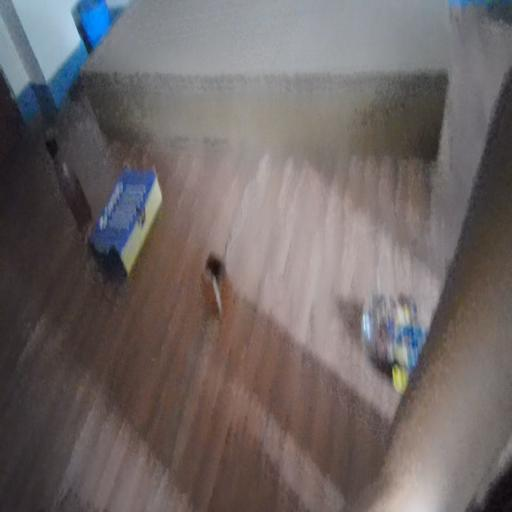Bottle: (44, 130, 90, 221)
car: (358, 280, 425, 373)
